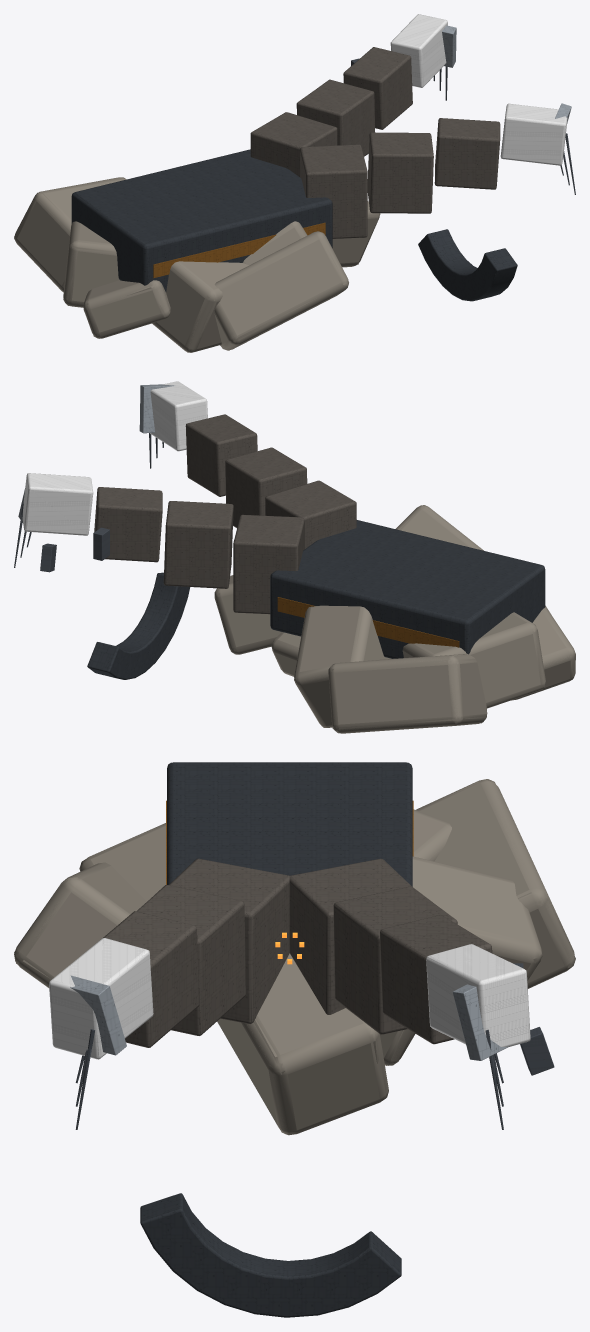
The model's file is place_landmark_pit_anchor.glb.
3 views of the same model, one above another, from view 1: azimuth 30°, elevation 25°; view 2: azimuth 150°, elevation 25°; view 3: azimuth 270°, elevation 25° (orthographic). The views are drawn at different scales.
Visible parts, largest first — view 1: LOD0_Stone, LOD0_Hull, LOD0_Armor, LOD1_Stone, LOD0_MechanicalDark, LOD2_Stone, LOD0_Warning_ember, LOD0_BrushedMetal; view 2: LOD0_Stone, LOD0_Armor, LOD0_Hull, LOD1_Stone, LOD0_MechanicalDark, LOD0_Warning_ember, LOD2_Stone, LOD0_Mechanical, LOD0_BrushedMetal, LOD1_Armor; view 3: LOD0_Stone, LOD0_Hull, LOD0_Armor, LOD1_Stone, LOD0_MechanicalDark, LOD0_BrushedMetal, LOD2_Stone, LOD0_Mechanical, LOD1_Armor.
Part boxes in pixels (<box>): LOD0_Stone: <box>14,177,379,352</box>; LOD0_Hull: <box>250,47,500,238</box>; LOD0_Armor: <box>71,149,517,301</box>; LOD1_Stone: <box>14,177,379,351</box>; LOD0_MechanicalDark: <box>390,14,567,165</box>; LOD2_Stone: <box>14,177,380,352</box>; LOD0_Warning_ember: <box>153,222,325,278</box>; LOD0_BrushedMetal: <box>442,25,571,123</box>; LOD0_Stone: <box>215,505,575,733</box>; LOD0_Armor: <box>87,520,545,679</box>; LOD0_Hull: <box>94,414,356,614</box>; LOD1_Stone: <box>215,505,574,733</box>; LOD0_MechanicalDark: <box>22,381,207,535</box>; LOD0_Warning_ember: <box>277,597,459,647</box>; LOD2_Stone: <box>214,505,575,733</box>; LOD0_Mechanical: <box>14,433,163,572</box>; LOD0_BrushedMetal: <box>18,384,174,523</box>; LOD1_Armor: <box>87,540,545,679</box>; LOD0_Stone: <box>14,780,574,1135</box>; LOD0_Hull: <box>103,858,492,1047</box>; LOD0_Armor: <box>140,762,412,1317</box>; LOD1_Stone: <box>14,779,574,1134</box>; LOD0_MechanicalDark: <box>49,938,530,1059</box>; LOD0_BrushedMetal: <box>70,975,508,1060</box>; LOD2_Stone: <box>14,779,575,1135</box>; LOD0_Mechanical: <box>76,963,554,1129</box>; LOD1_Armor: <box>141,762,410,1317</box>.
Size of what is drawn, in the model's own units: 105 by 48.8 by 68.55.
9 materials, 6 textured.
